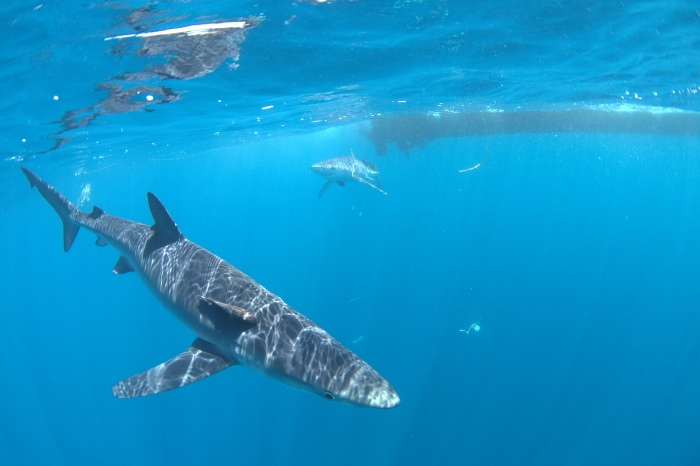Azul: (205, 231, 448, 407)
